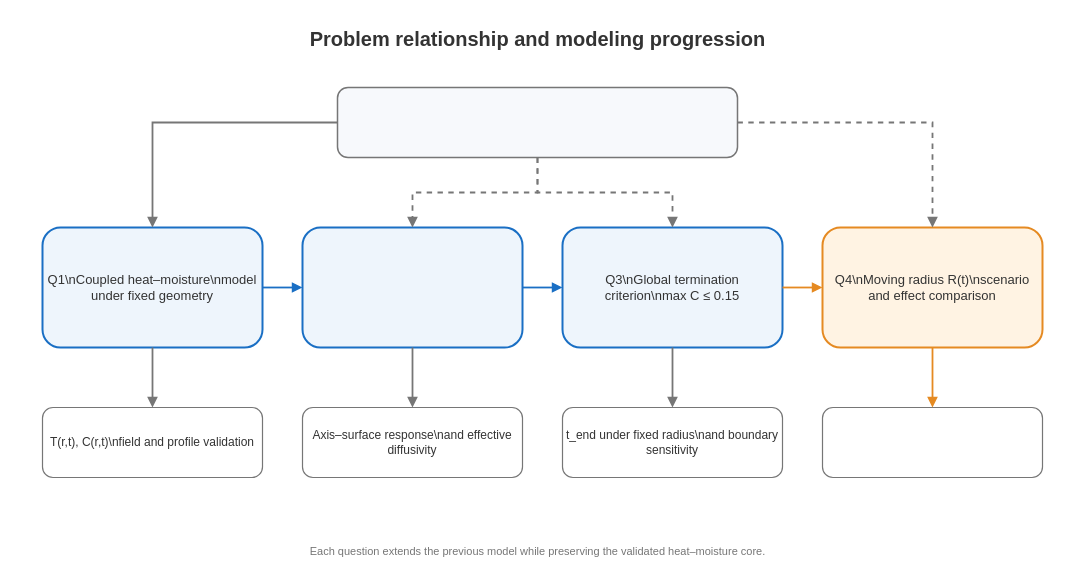
Some shapes in this 1074 by 587 pixel diagram are drawn without their labels. The centre of each missing label's shape, as x and y in pixels:
Common inputs\nDrying air data · material properties · initial state: pixel 537 122
Q2\nLong-time fixed-radius\ndrying dynamics: pixel 412 287
Shrinkage curve\nfixed/moving effect decomposition: pixel 932 442
